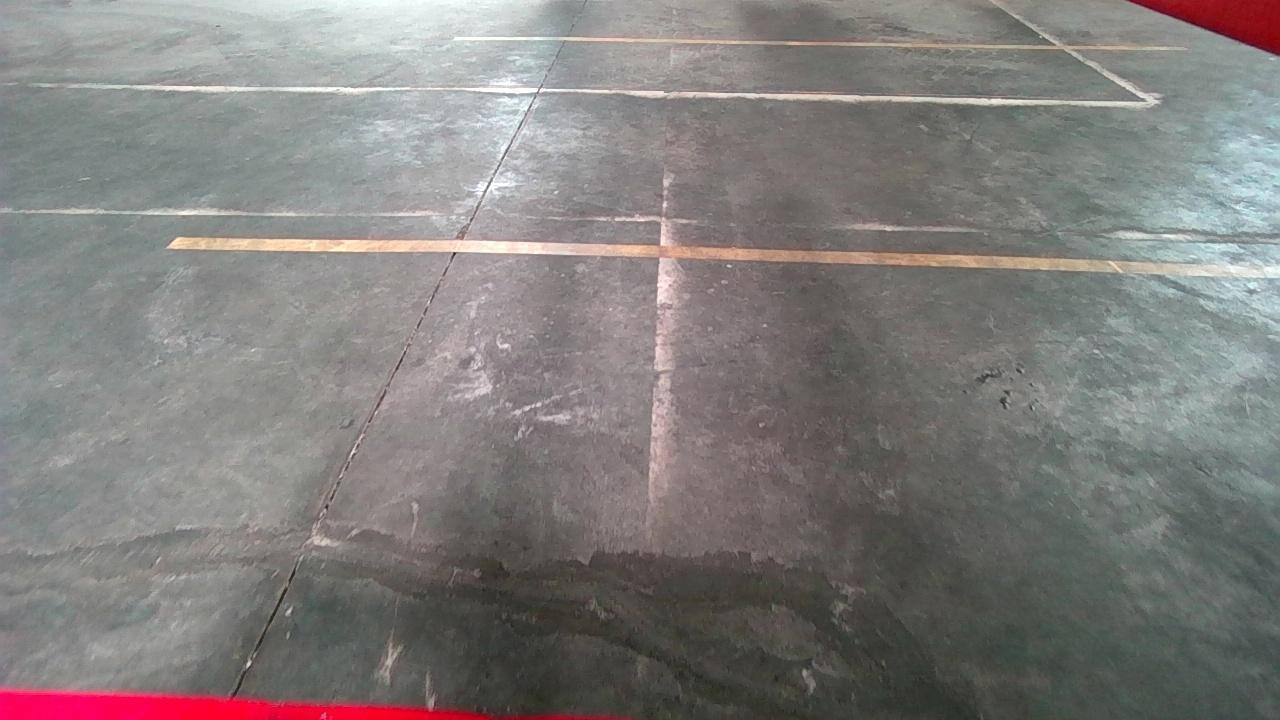yellow_line: (170, 237, 1280, 277)
